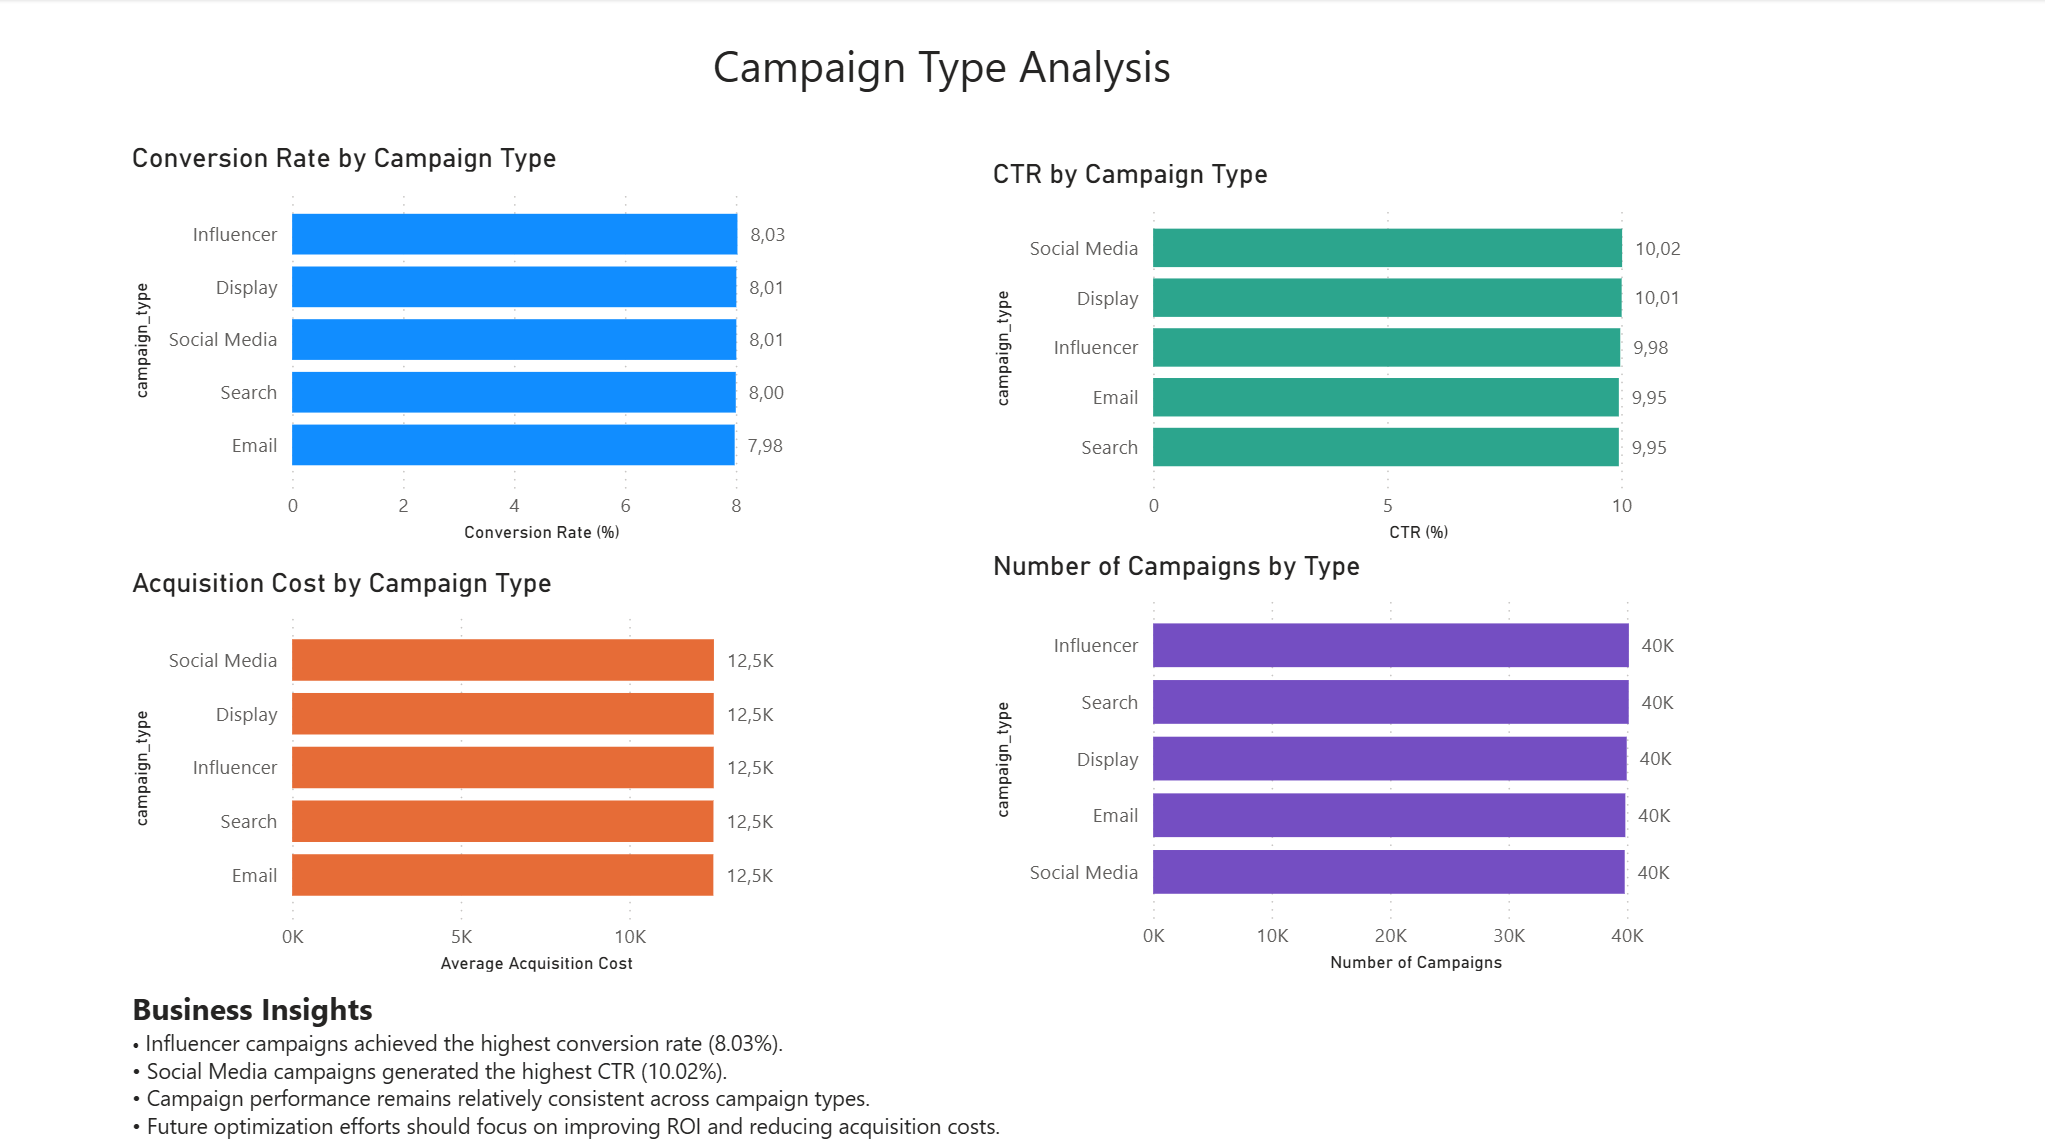

The page's visual inventory and layout, read from the dashboard file:
{"tool":"powerbi","page":{"name":"Campaign Type Analysis","canvas":[1280,720],"ordinal":2},"visuals":[{"type":"clusteredBarChart","title":"Conversion Rate by Campaign Type","fields":{"Category":["public vw_campaign_type_performance.campaign_type"],"Y":["Avg(public vw_campaign_type_performance.avg_conversion_rate)"]},"box":[81.4,87.8,421.8,252.5],"z":0},{"type":"barChart","title":"CTR by Campaign Type","fields":{"Category":["public vw_campaign_type_performance.campaign_type"],"Y":["Avg(public vw_campaign_type_performance.ctr_percentage)"]},"box":[613.9,97.9,444.7,242.5],"z":1000},{"type":"barChart","title":"Acquisition Cost by Campaign Type","fields":{"Category":["public vw_campaign_type_performance.campaign_type"],"Y":["Sum(public vw_campaign_type_performance.avg_acquisition_cost)"]},"box":[81.4,350.4,421.8,256.2],"z":2000},{"type":"barChart","title":"Number of Campaigns by Type","fields":{"Category":["public vw_campaign_type_performance.campaign_type"],"Y":["Sum(public vw_campaign_type_performance.campaign_count)"]},"box":[613.9,340.4,444.7,266.2],"z":3000},{"type":"textbox","box":[81.4,606.6,571.8,113.5],"z":4000},{"type":"textbox","box":[441,17.4,424.5,49.4],"z":4001}]}

Visuals, with their boxes in screenshot pixels (x1, y1, x2, y2), scaled from the page's 1280x720 canvas onto the 2045x1147 screenshot:
"Conversion Rate by Campaign Type" clusteredBarChart: 130:140:804:542
"CTR by Campaign Type" barChart: 981:156:1691:542
"Acquisition Cost by Campaign Type" barChart: 130:558:804:966
"Number of Campaigns by Type" barChart: 981:542:1691:966
textbox: 130:966:1044:1146
textbox: 705:28:1383:106
